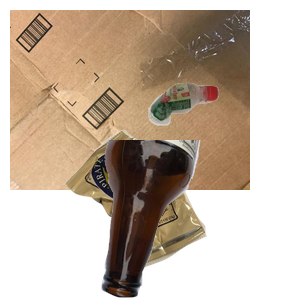cardboard: (10, 10, 250, 190)
glass: (99, 140, 300, 300)
plastic: (146, 80, 300, 198)
trash: (61, 127, 260, 300)
